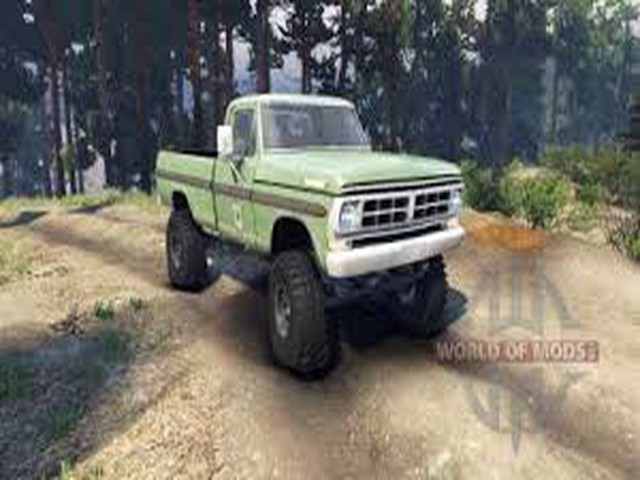Vehicle: (149, 85, 474, 382)
